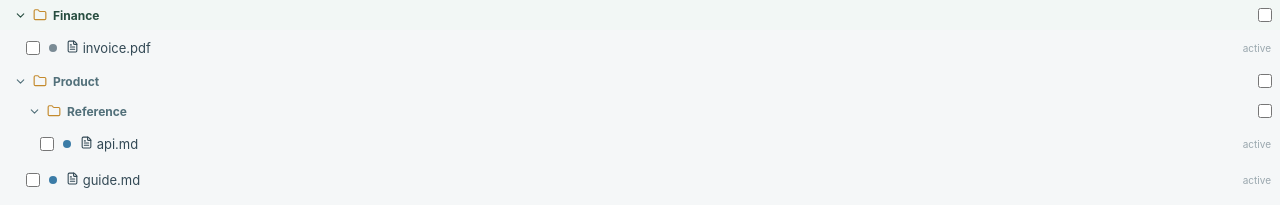
it: PropertyTree › selects every descendant property when a group is selected
This screenshot has width=1280, height=205.
Click the checkbox named "Select Product group". click: (1265, 81)
box: [1258,74,1272,88]
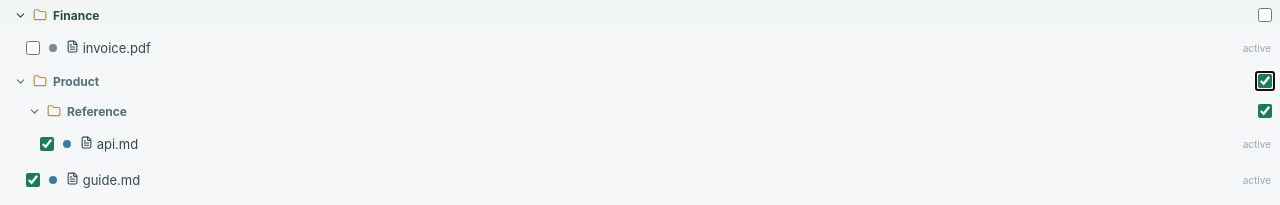
Expected: the checkbox named "Select invoice.pdf" is not checked, [26,41,40,55]
Expected: the checkbox named "Select guide.md" is checked, [26,173,40,187]
Expected: the checkbox named "Select api.md" is checked, [40,137,54,151]
